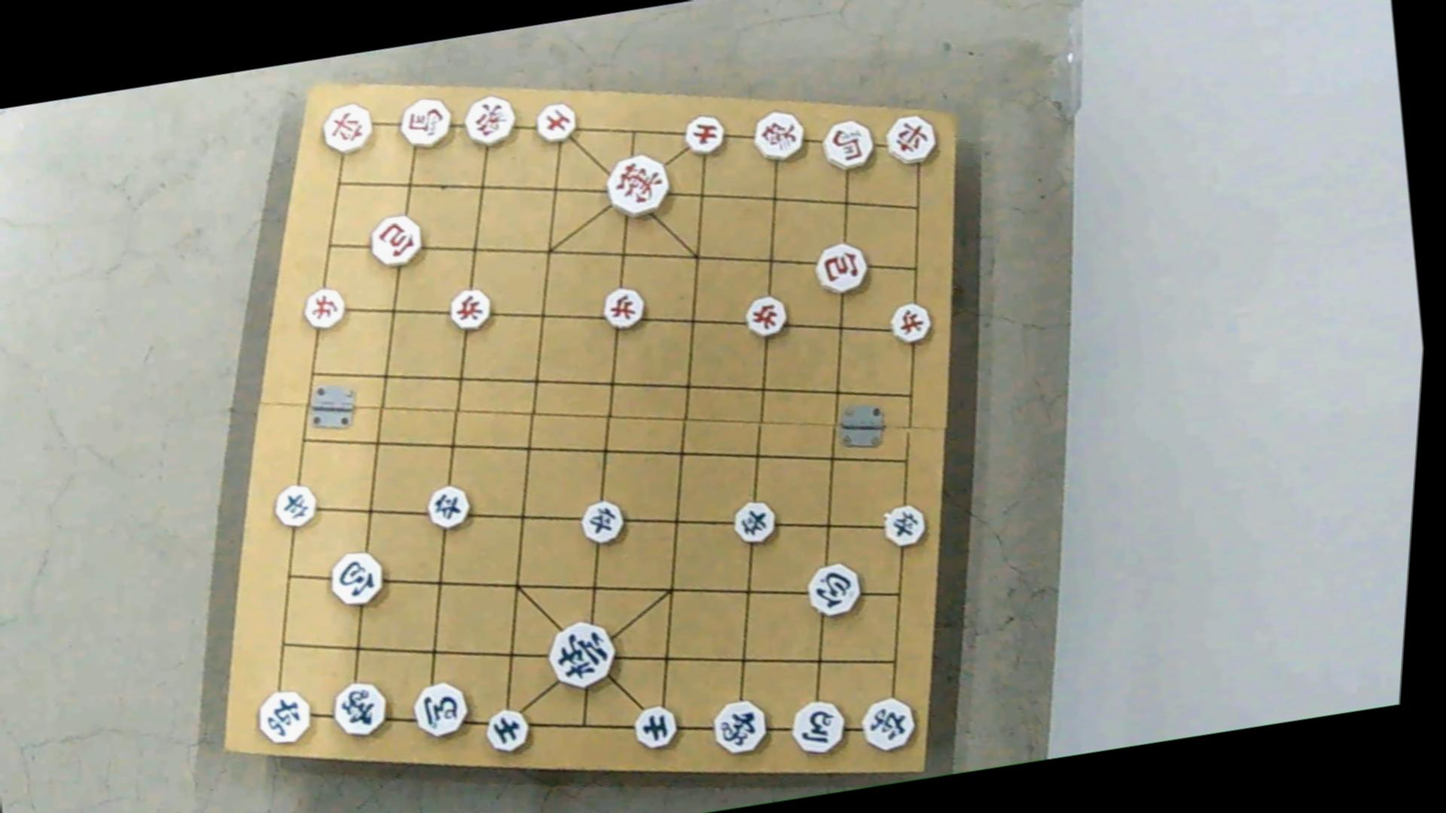cha_green: (251, 688, 321, 745), (856, 696, 919, 755)
cha_red: (880, 112, 944, 166), (317, 102, 380, 154)
jol_green: (578, 498, 632, 545), (267, 484, 320, 530), (879, 502, 932, 547), (732, 500, 783, 545), (423, 483, 474, 528)
jol_red: (884, 297, 938, 345), (299, 286, 352, 329), (597, 288, 648, 332), (741, 294, 792, 337), (444, 289, 493, 333)
ma_green: (407, 675, 471, 738), (788, 697, 850, 754)
ma_red: (393, 96, 458, 155), (817, 120, 878, 172)
po_green: (324, 550, 389, 606), (802, 562, 864, 616)
po_red: (810, 241, 872, 294), (364, 215, 426, 267)
sa_green: (481, 708, 532, 754), (630, 704, 682, 749)
sa_red: (678, 114, 728, 156), (532, 103, 582, 145)
sang_green: (326, 675, 392, 742), (707, 697, 772, 762)
sang_red: (456, 93, 523, 152), (750, 108, 810, 165)
wang_green: (543, 620, 622, 691)
wang_red: (602, 153, 678, 218)
